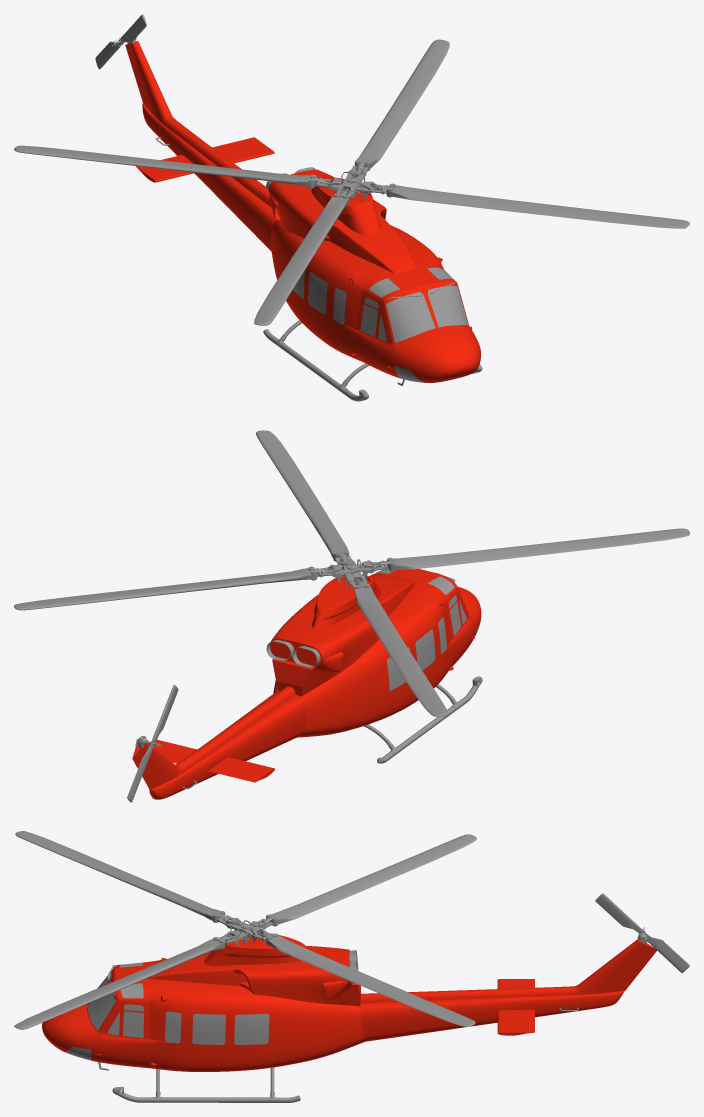
Rendered from floor.FBX.
3 renders of one model, top to bottom at view 1: azimuth 30°, elevation 25°; view 2: azimuth 150°, elevation 25°; view 3: azimuth 270°, elevation 25°, orthographic. The views are drawn at different scales.
Visible parts, largest first — view 1: ArchM73_12_04, ArchM73_12_00, ArchM73_12_03, ArchM73_12_12, ArchM73_12_01; view 2: ArchM73_12_04, ArchM73_12_00, ArchM73_12_03, ArchM73_12_12, ArchM73_12_01; view 3: ArchM73_12_04, ArchM73_12_00, ArchM73_12_03, ArchM73_12_12, ArchM73_12_01.
Part boxes in pixels (left/top/right/bottom): ArchM73_12_04: left=125, top=41, right=480, bottom=382; ArchM73_12_00: left=14, top=39, right=689, bottom=325; ArchM73_12_03: left=291, top=255, right=468, bottom=382; ArchM73_12_12: left=156, top=136, right=482, bottom=401; ArchM73_12_01: left=95, top=14, right=146, bottom=69; ArchM73_12_04: left=132, top=569, right=481, bottom=799; ArchM73_12_00: left=14, top=430, right=689, bottom=716; ArchM73_12_03: left=375, top=569, right=480, bottom=690; ArchM73_12_12: left=182, top=676, right=482, bottom=789; ArchM73_12_01: left=127, top=684, right=178, bottom=802; ArchM73_12_04: left=42, top=933, right=657, bottom=1071; ArchM73_12_00: left=14, top=831, right=476, bottom=1029; ArchM73_12_03: left=65, top=962, right=269, bottom=1060; ArchM73_12_12: left=98, top=1007, right=578, bottom=1102; ArchM73_12_01: left=595, top=893, right=689, bottom=972.
Bounding box in the file's own units: 9469 × 3985 × 13821.
